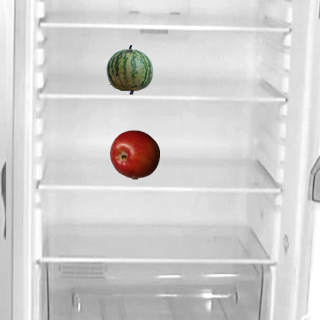Apple Braeburn: (109, 129, 159, 179)
Watermelon: (104, 44, 154, 94)
